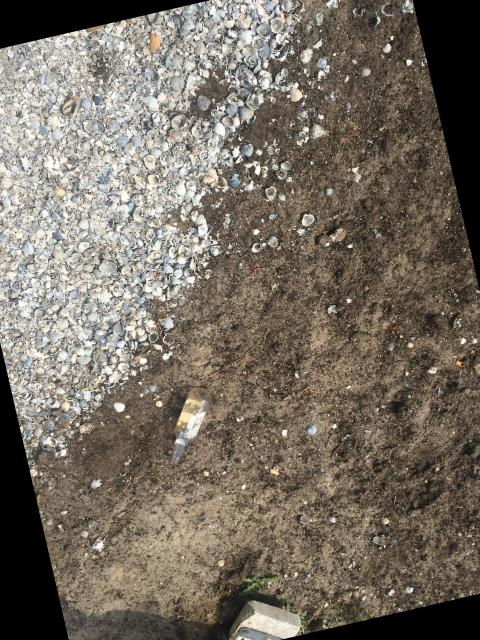plastic: (171, 386, 210, 462)
